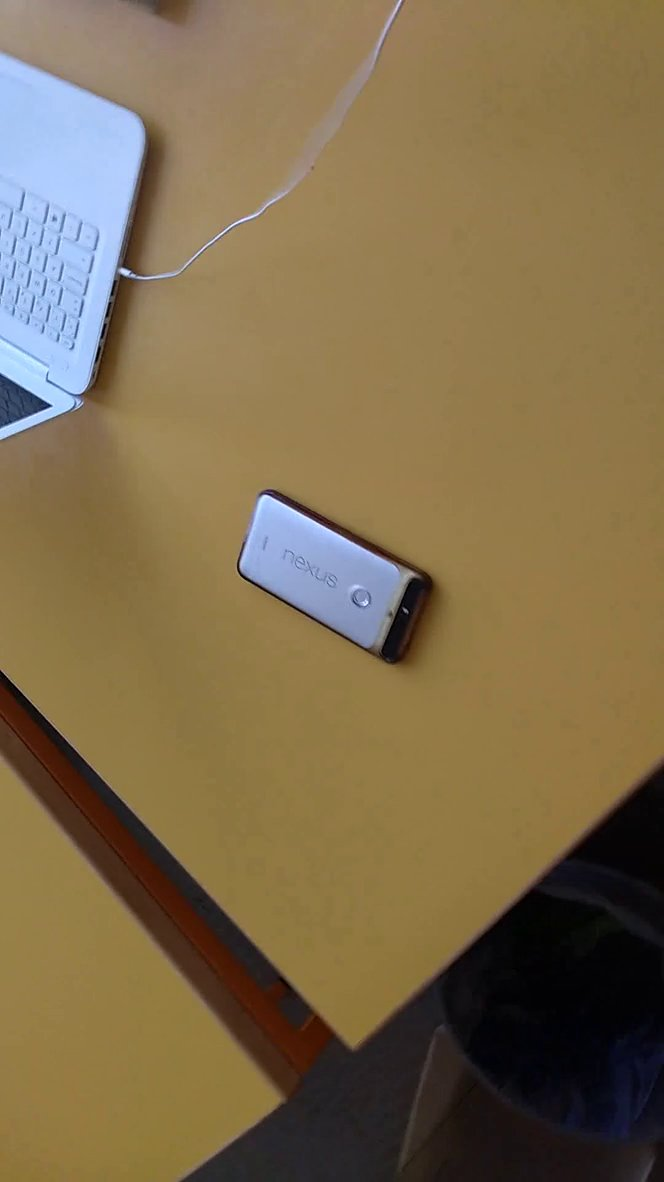phone: (226, 483, 451, 679)
